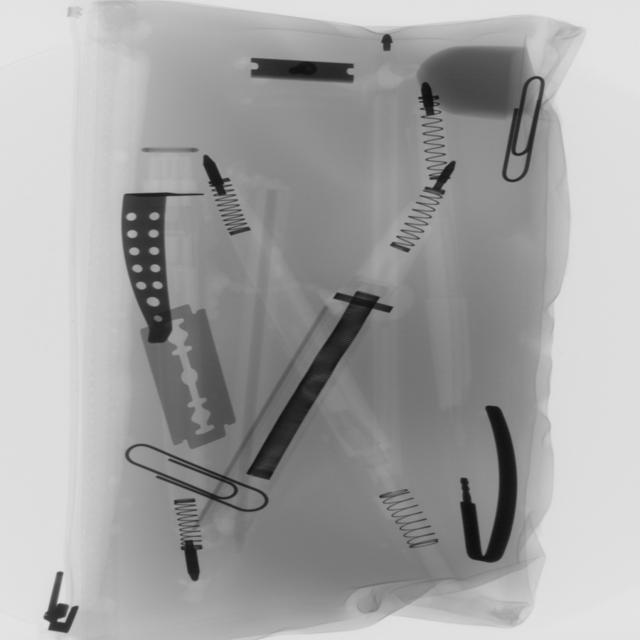knife: (115, 186, 203, 347)
pin: (122, 436, 278, 522)
razor: (130, 302, 248, 438)
